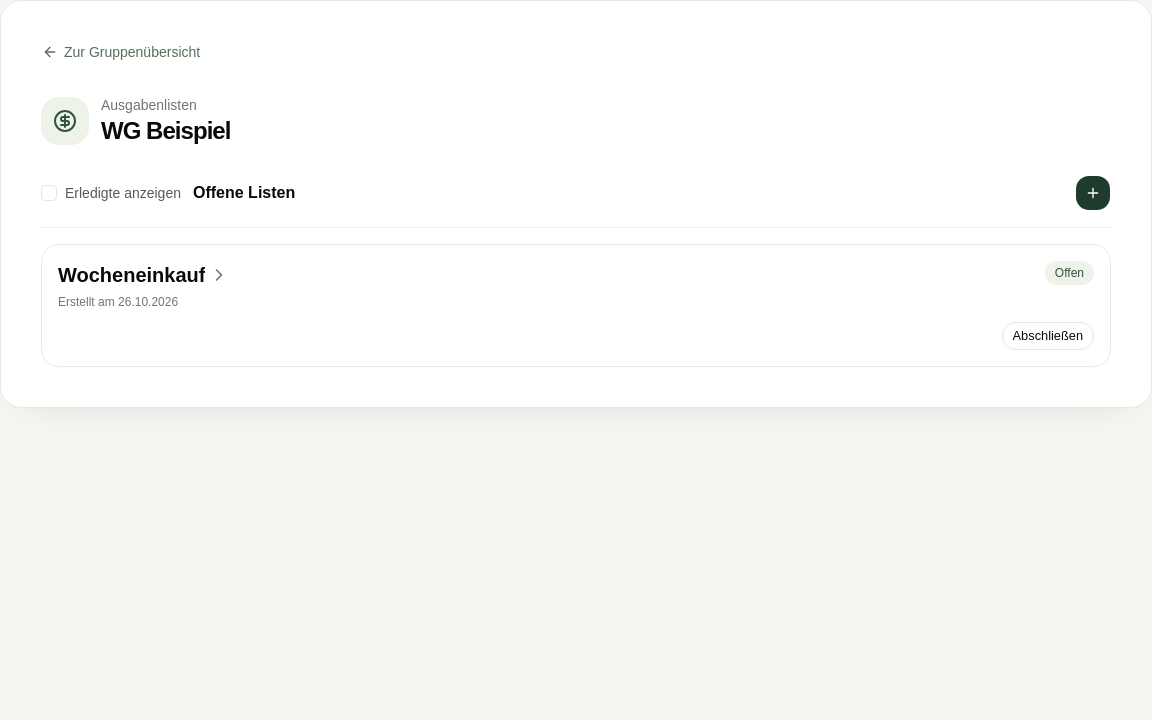
Test: ExpenseLists › loads non-open lists when the filter is enabled
The image size is (1152, 720).
Click the checkbox named "Erledigte anzeigen" at (49, 193), box [41, 185, 57, 201]
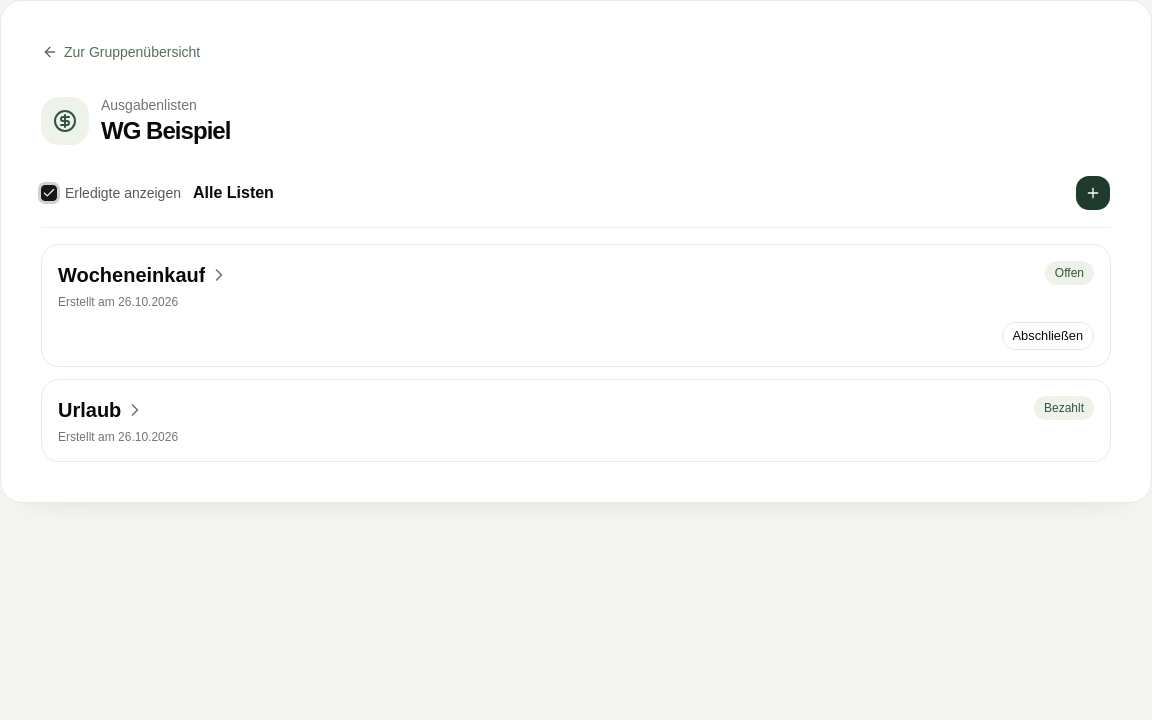
Now the heading "Urlaub" is shown, box [58, 396, 145, 425]
Now the text "Bezahlt" is shown, box [1034, 396, 1094, 420]
